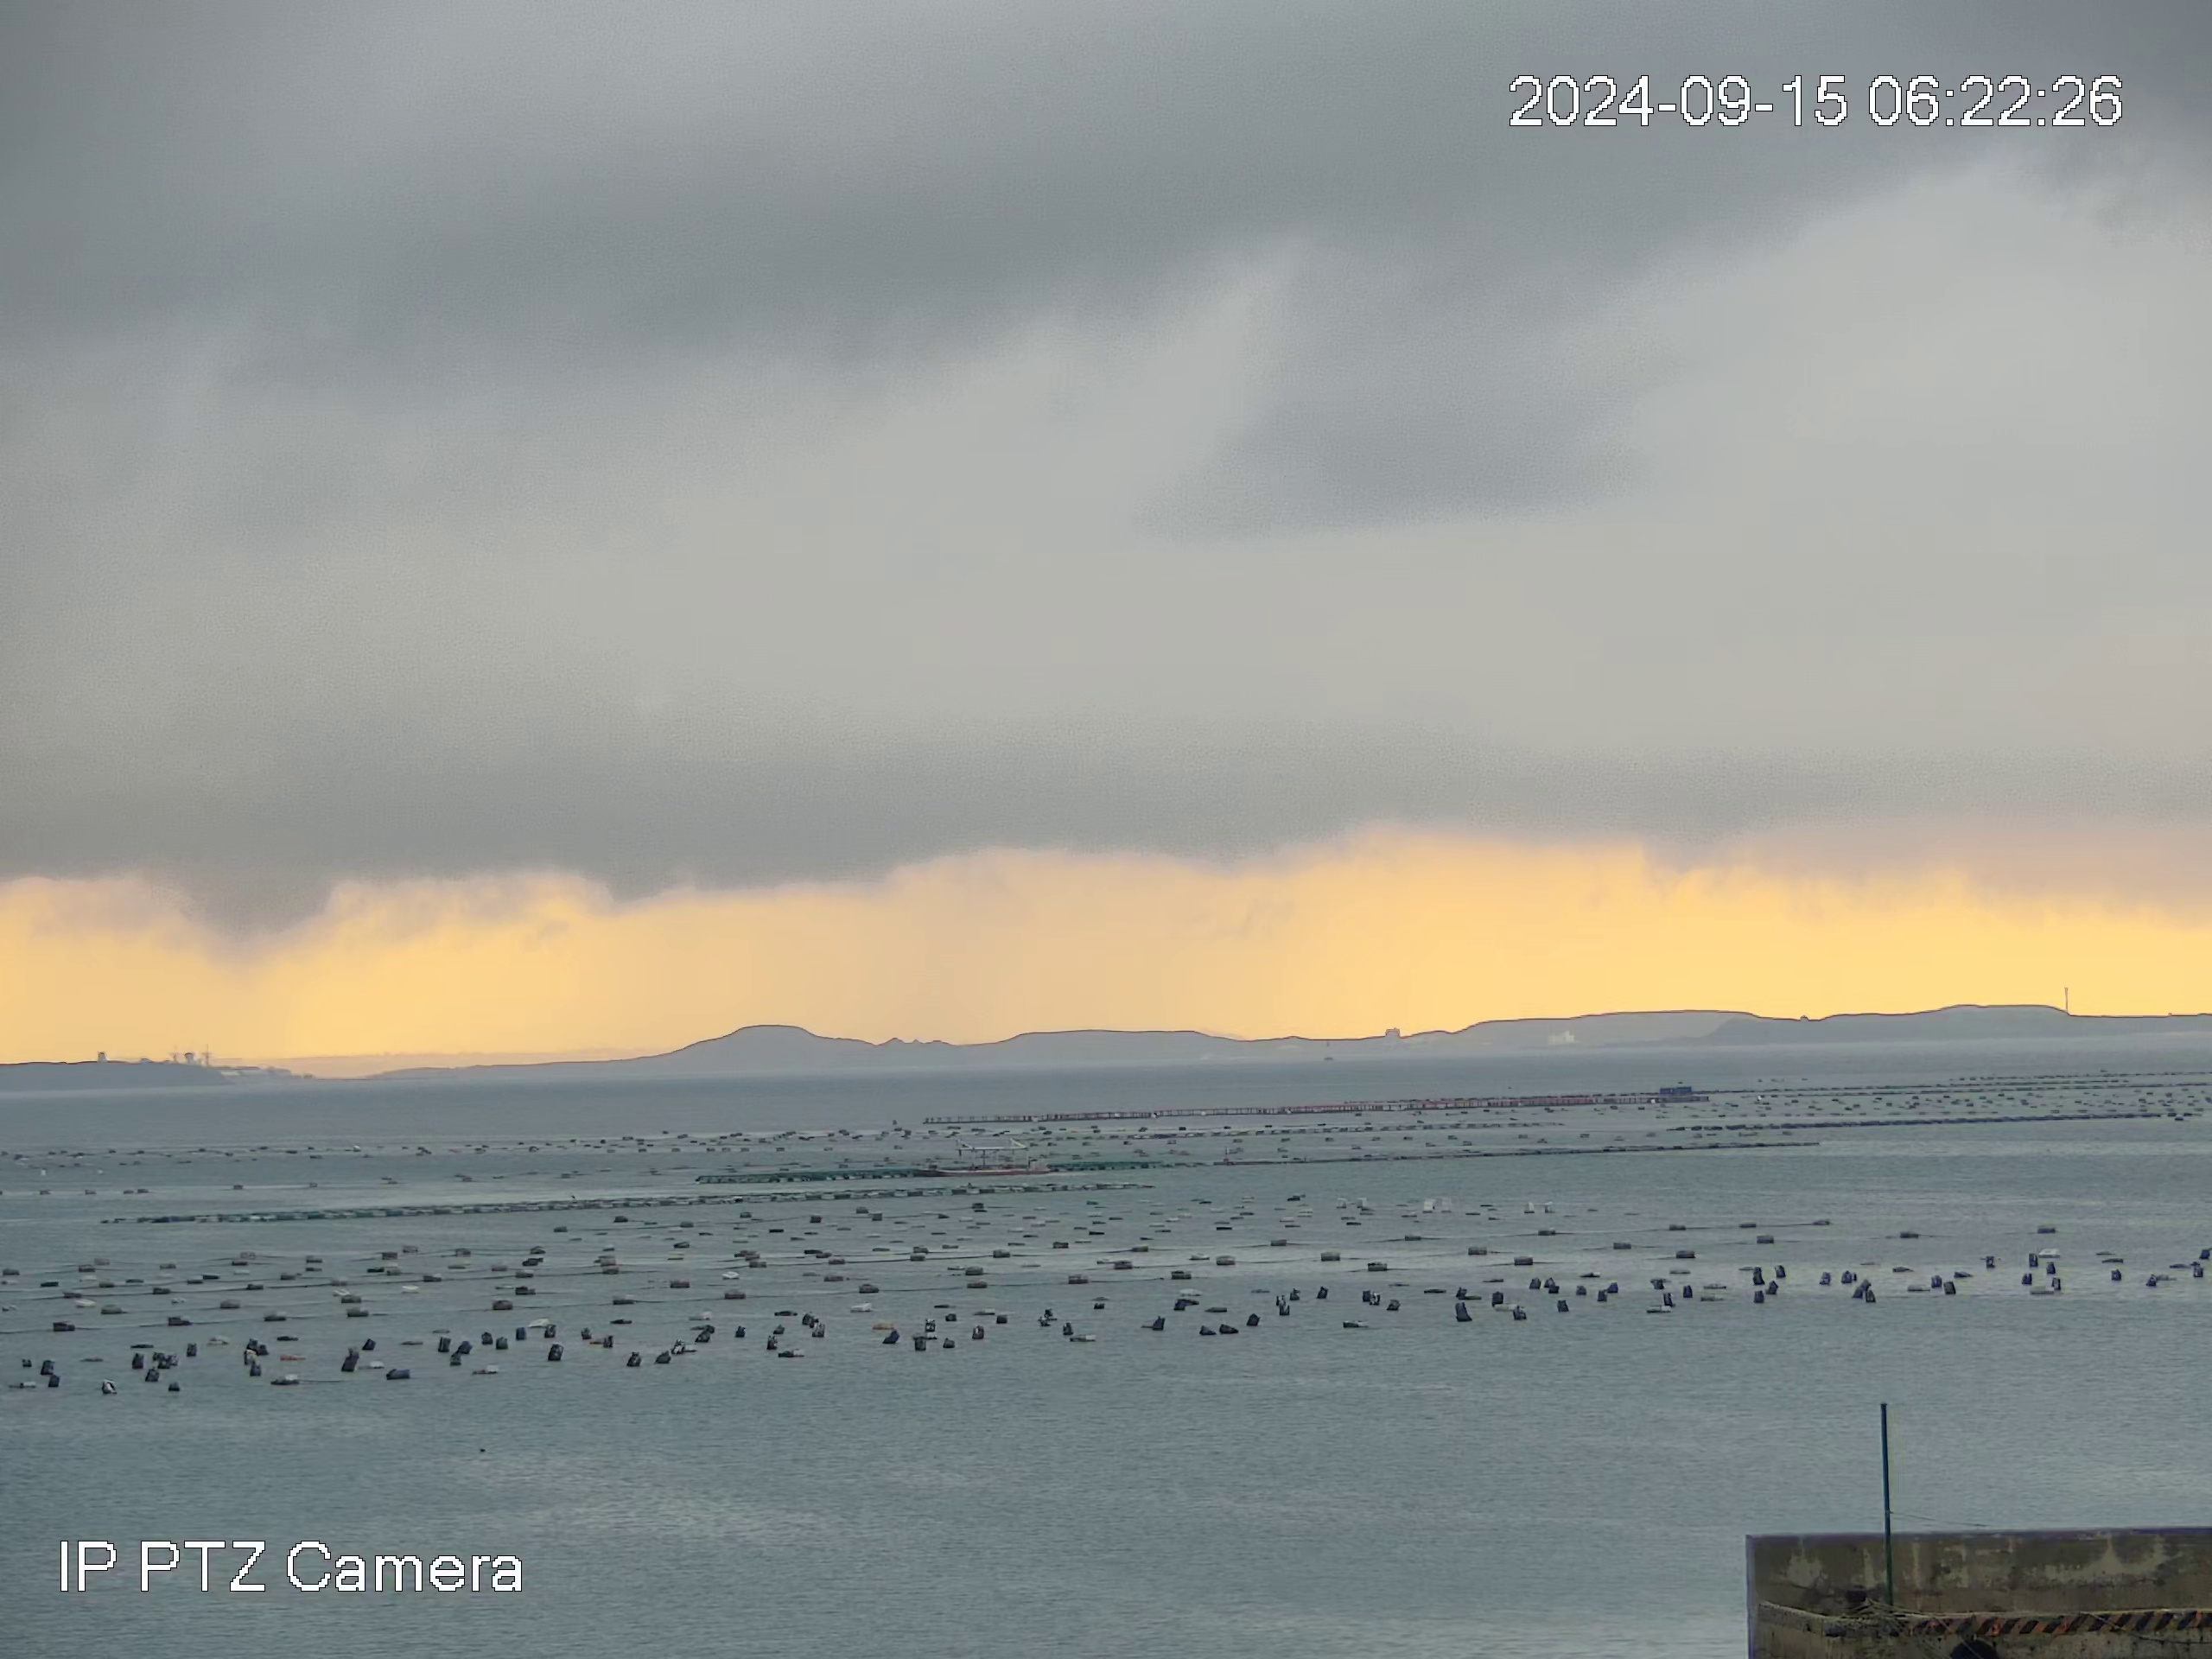boat: (939, 1141, 1054, 1178)
